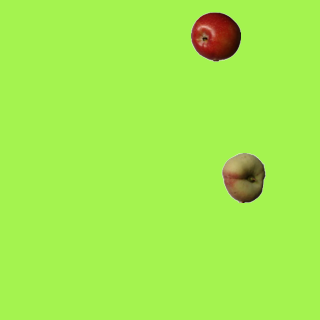Apple Braeburn: (190, 11, 240, 61)
Peach Flat: (218, 152, 268, 202)
